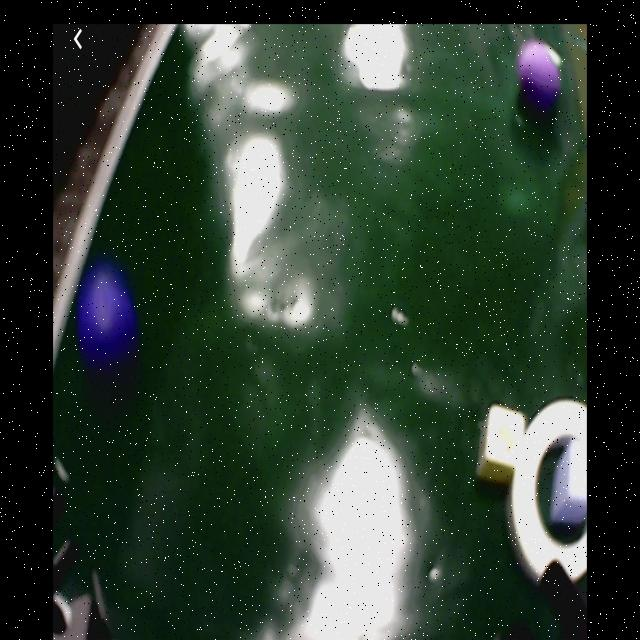ball: (81, 276, 132, 364), (520, 43, 560, 107)
